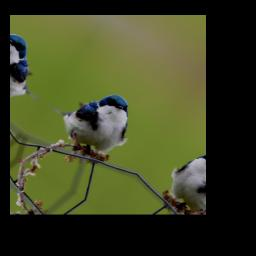Swallow: (34, 68, 148, 171)
